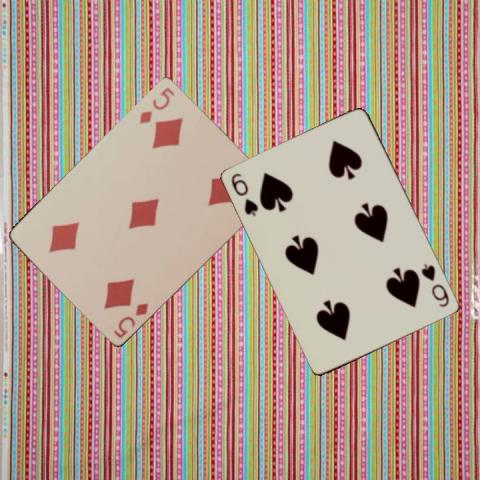5d: (136, 84, 176, 125), (110, 300, 150, 340)
6s: (228, 170, 261, 218), (419, 260, 451, 308)
